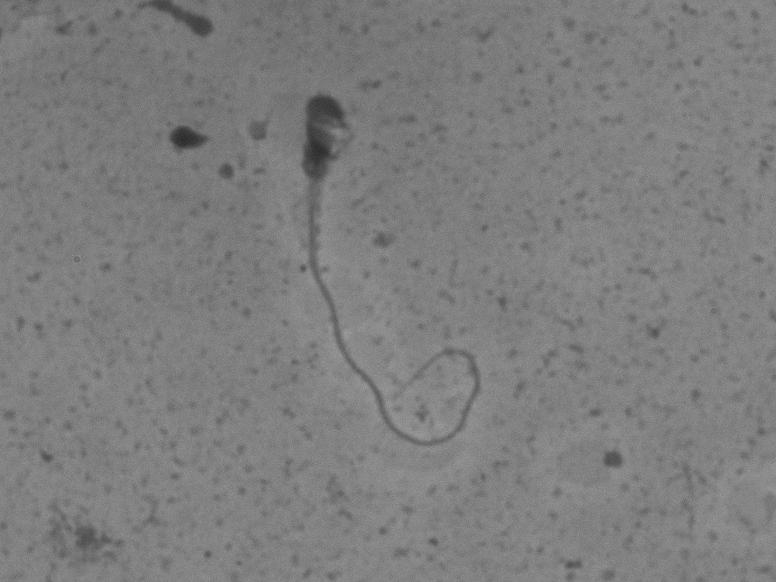Abnormal: (242, 63, 516, 474)
